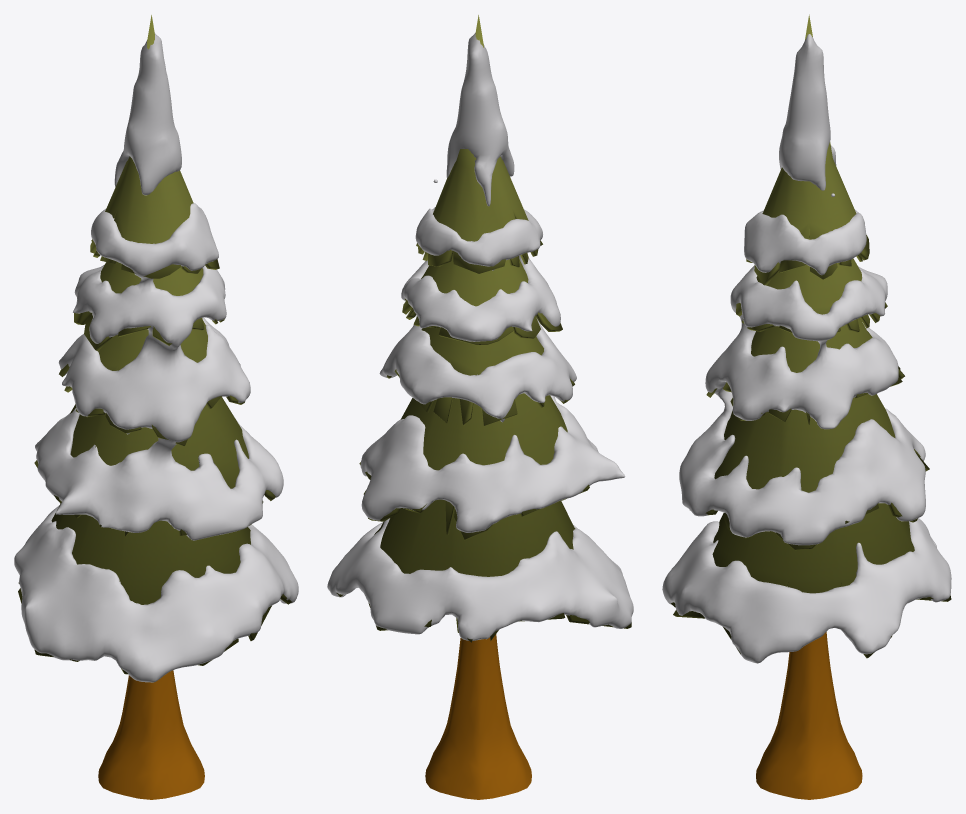
File: snowtree.gltf
3 renders of one model, left to right at view 1: azimuth 30°, elevation 25°; view 2: azimuth 150°, elevation 25°; view 3: azimuth 270°, elevation 25°, orthographic.
Parts seen in each view (by area): view 1: Object_2003_2, Object_2003_1, Object_2003_3; view 2: Object_2003_2, Object_2003_1, Object_2003_3; view 3: Object_2003_2, Object_2003_1, Object_2003_3.
Part boxes in pixels (bbox=[...]): Object_2003_2: bbox=[14, 33, 298, 682]; Object_2003_1: bbox=[18, 15, 291, 674]; Object_2003_3: bbox=[98, 670, 204, 799]; Object_2003_2: bbox=[327, 33, 633, 640]; Object_2003_1: bbox=[336, 15, 631, 642]; Object_2003_3: bbox=[425, 634, 531, 799]; Object_2003_2: bbox=[662, 34, 951, 663]; Object_2003_1: bbox=[671, 14, 951, 658]; Object_2003_3: bbox=[756, 632, 862, 799].
Size of the model in its own units: 4.99 by 14.16 by 4.87.
3 materials, 1 textured.
